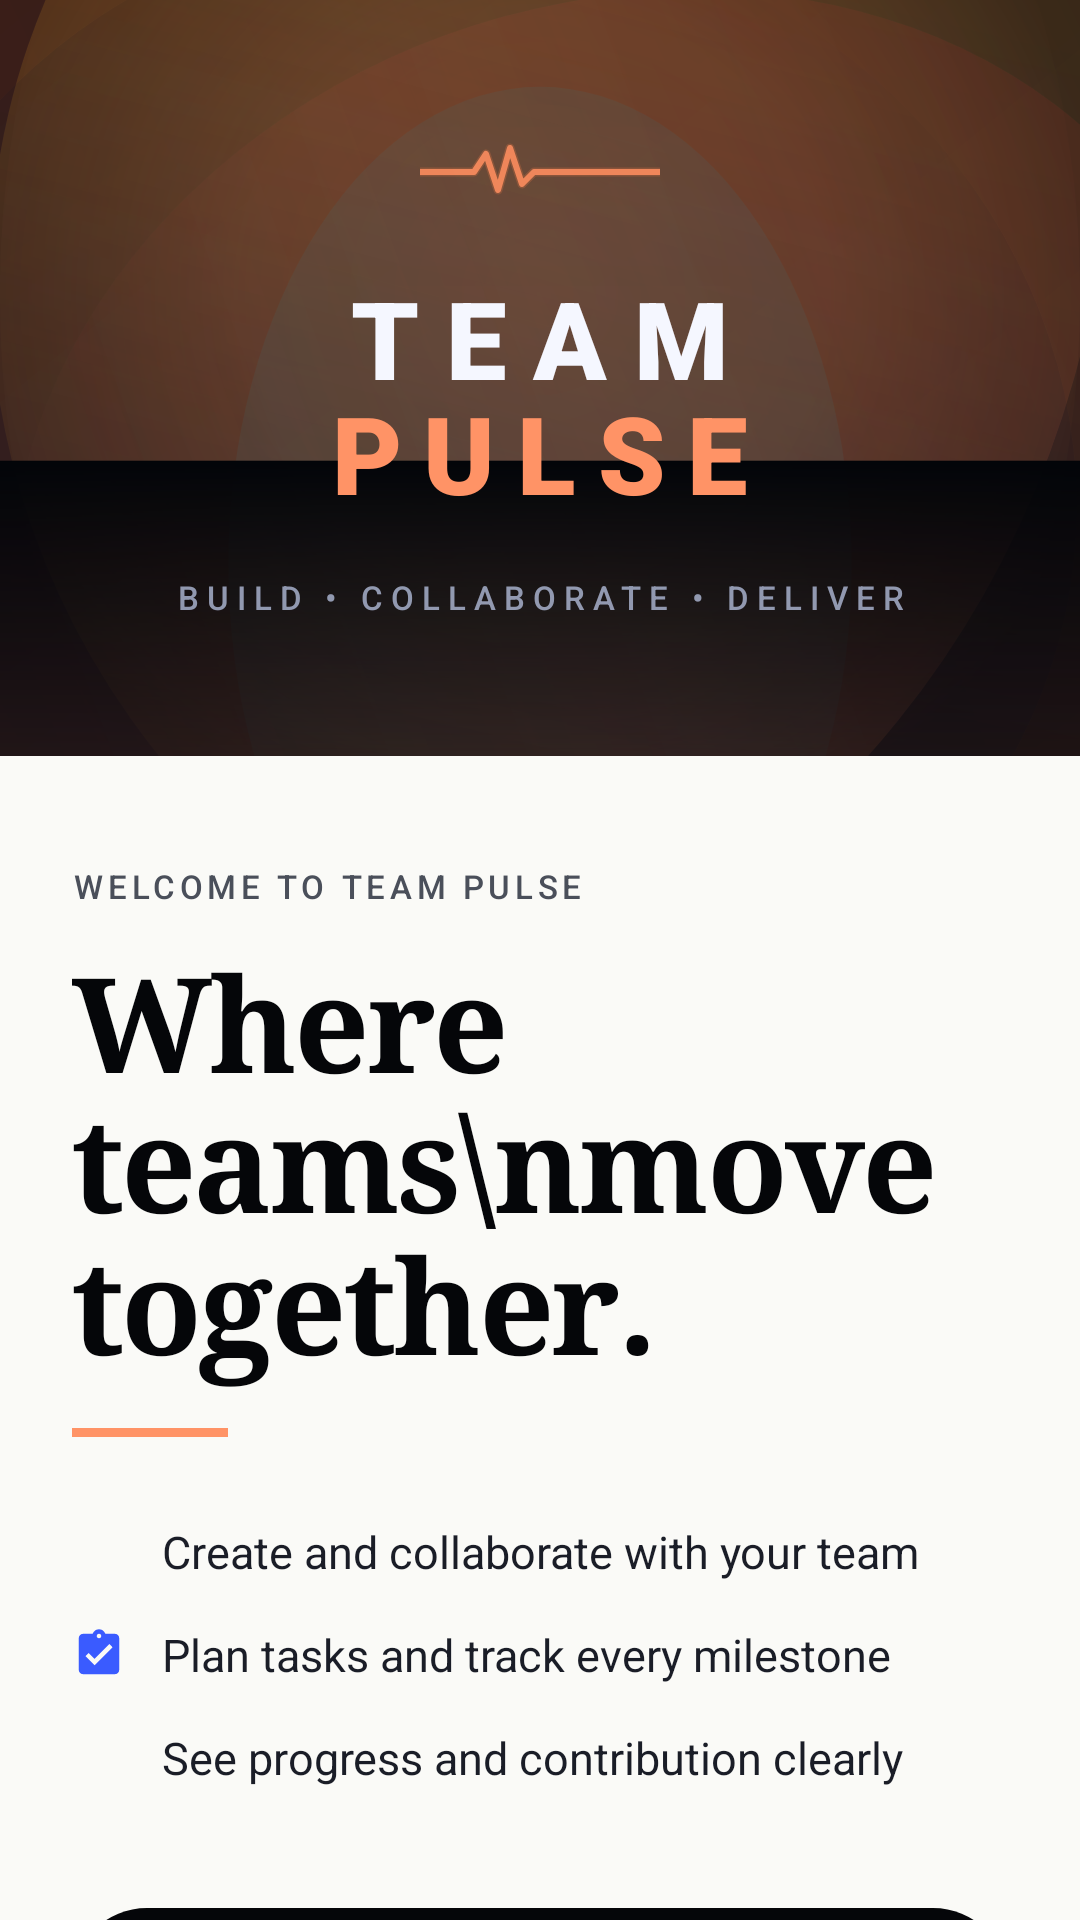

Icon bounding boxes for this 1080px×1920px phone screenshot, format (x1, y1, x2, y2):
pulse motif: (420, 144, 660, 194)
